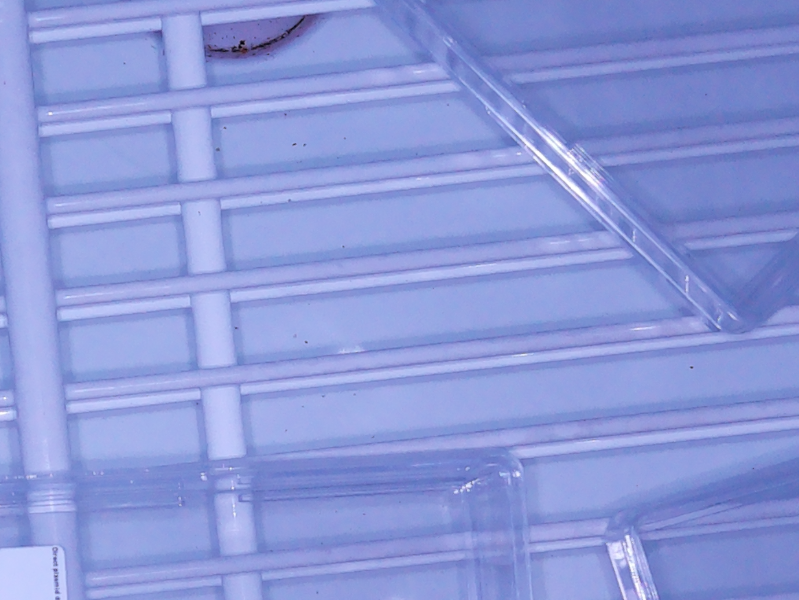plate: (374, 1, 799, 336), (1, 447, 530, 600), (605, 460, 799, 600)
